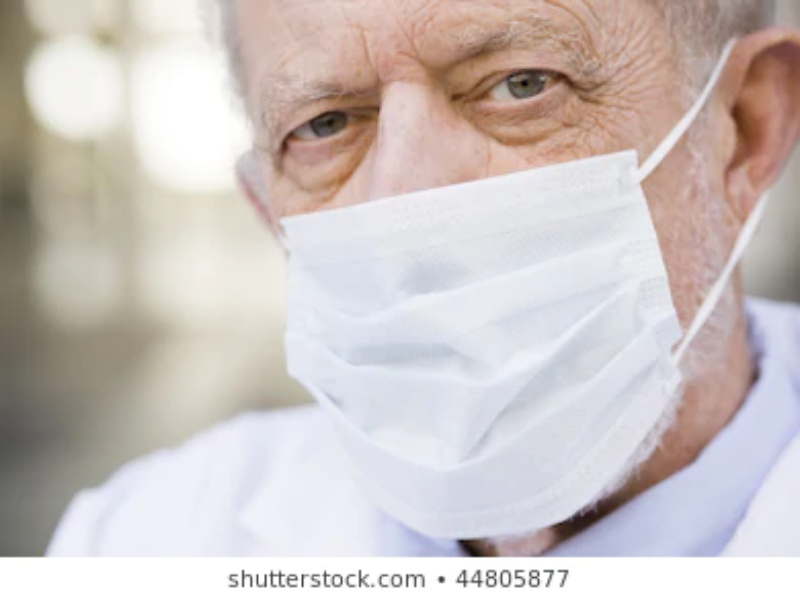ManaoArotava: (199, 2, 744, 560)
